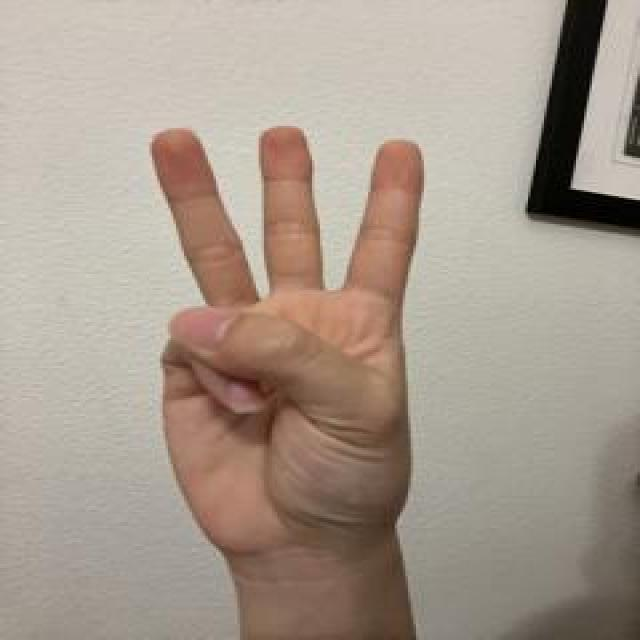W: (145, 125, 428, 563)
